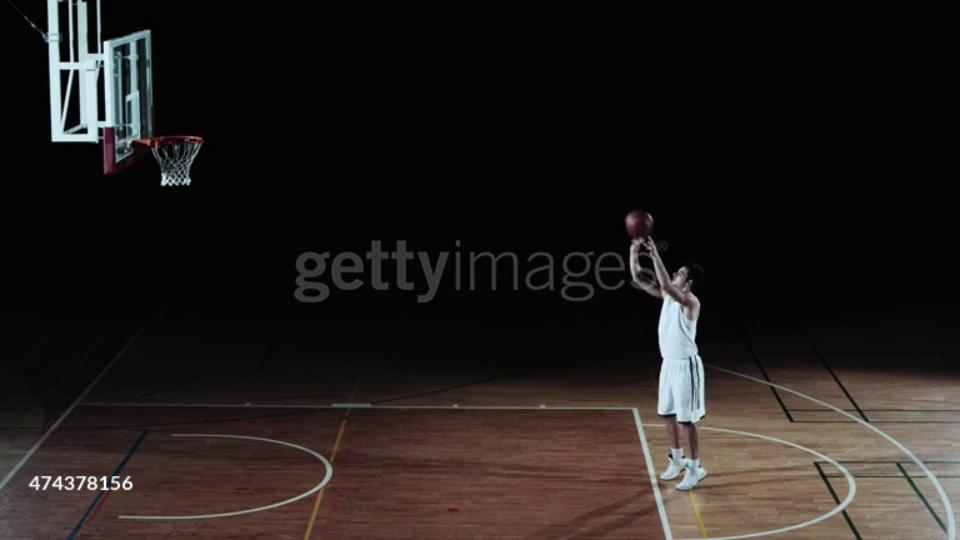hoop: (134, 134, 206, 154)
